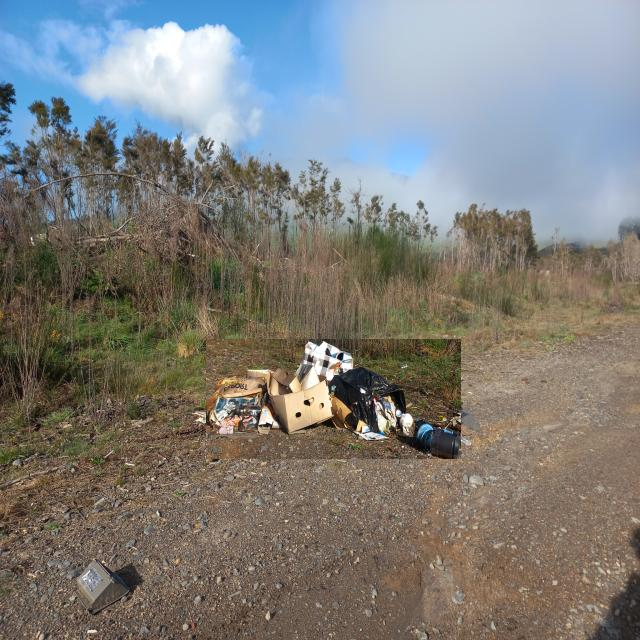dumping: (206, 339, 461, 459)
